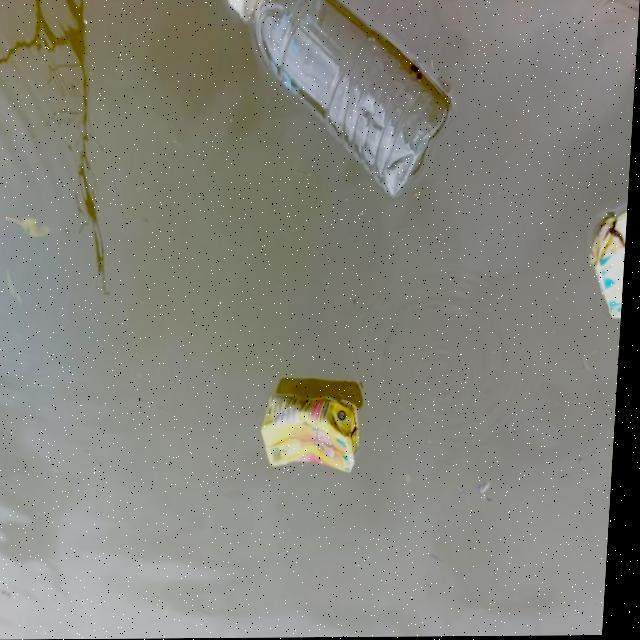Bottle: (213, 0, 459, 204)
Box: (252, 379, 374, 486)
